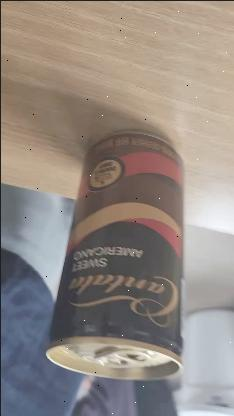Can: (46, 128, 182, 380)
